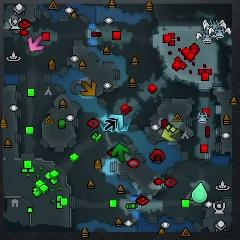p2: (192, 182, 207, 203)
x1: (28, 36, 44, 51)
x2: (162, 128, 179, 142)
x3: (107, 114, 124, 130)
x3Clone: (104, 119, 116, 132)
x4: (112, 144, 129, 161)
x5: (81, 79, 97, 96)
